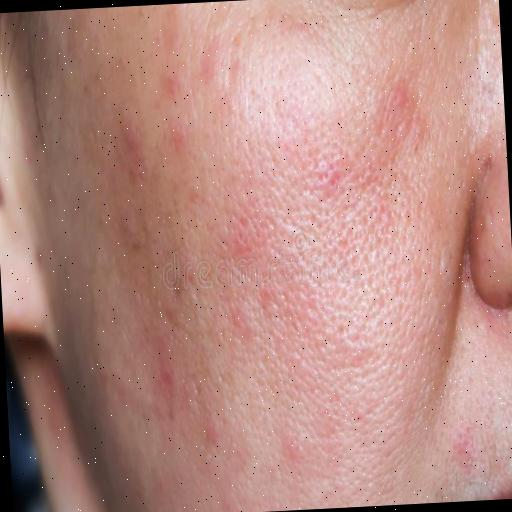Skin_Lesion: (114, 118, 149, 192), (280, 418, 314, 476), (112, 208, 148, 260), (378, 78, 418, 124), (449, 426, 484, 475), (125, 138, 152, 190), (151, 352, 178, 403), (168, 120, 190, 156), (202, 418, 222, 453), (162, 68, 182, 100), (0, 172, 8, 211)
